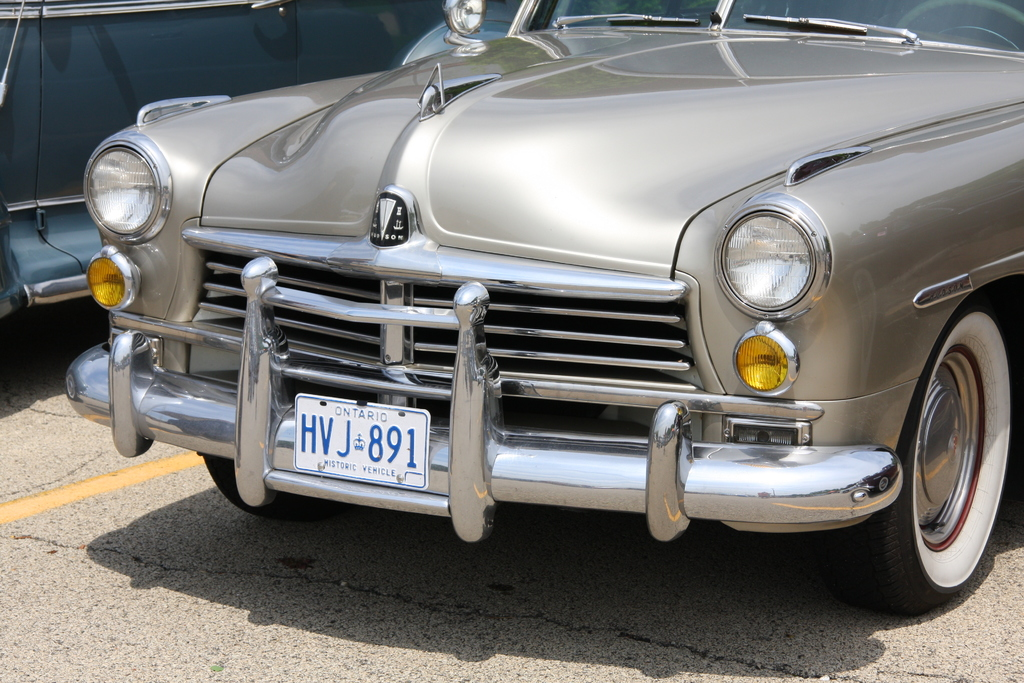Car: (62, 0, 1023, 619), (0, 0, 520, 322)
